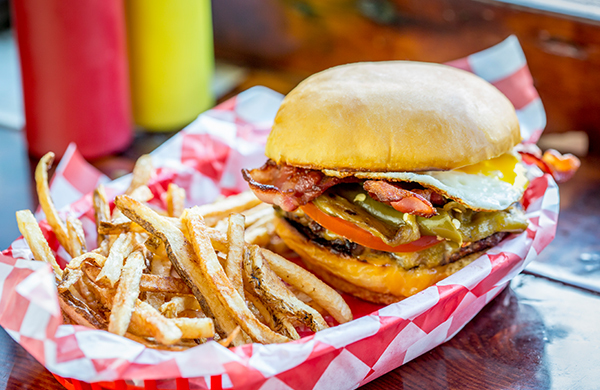hamburger: (269, 61, 532, 292)
